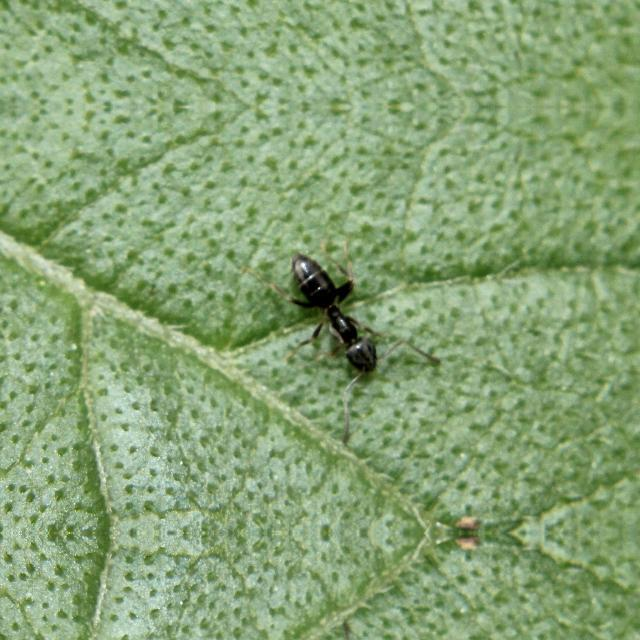Tapinoma: (256, 238, 412, 384)
